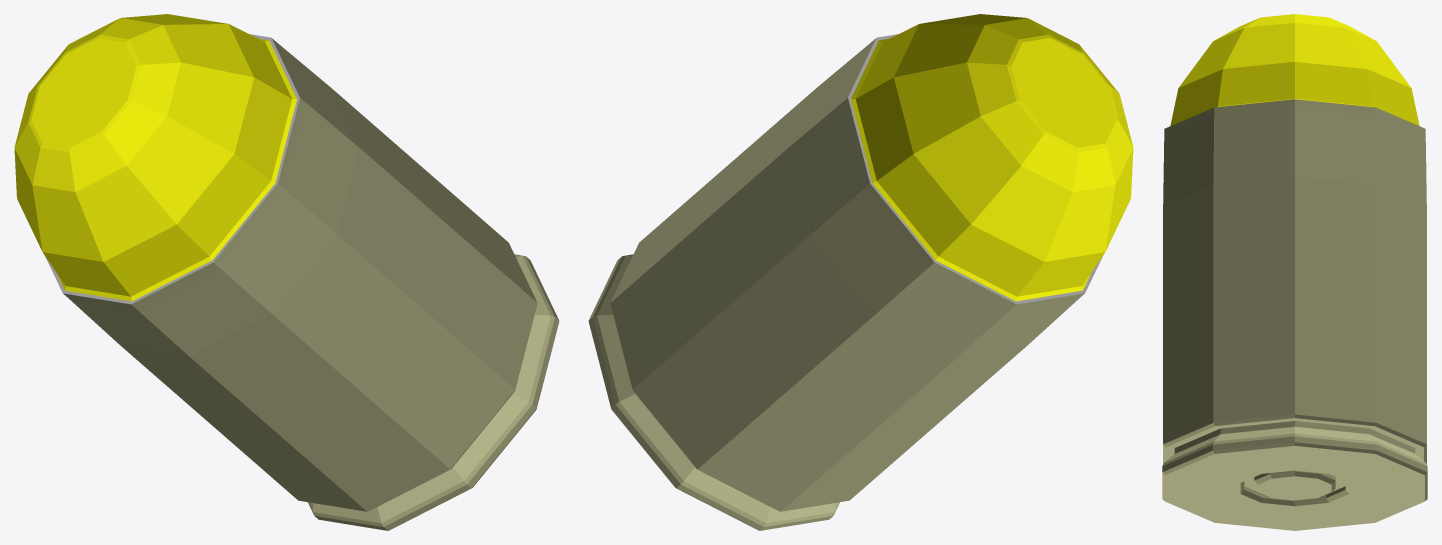
The model's file is bullet_pickup.fbx.
3 renders of one model, left to right at view 1: azimuth 30°, elevation 25°; view 2: azimuth 150°, elevation 25°; view 3: azimuth 270°, elevation 25°, orthographic. The views are drawn at different scales.
Visible parts, largest first — view 1: pCylinder1; view 2: pCylinder1; view 3: pCylinder1.
Boxes of the visible parts, x1,y1,x2,y2 form: pCylinder1: (14, 14, 559, 530); pCylinder1: (588, 14, 1133, 530); pCylinder1: (1162, 14, 1427, 530).
Bounding box in the file's own units: 1.95 × 2 × 1.08.
